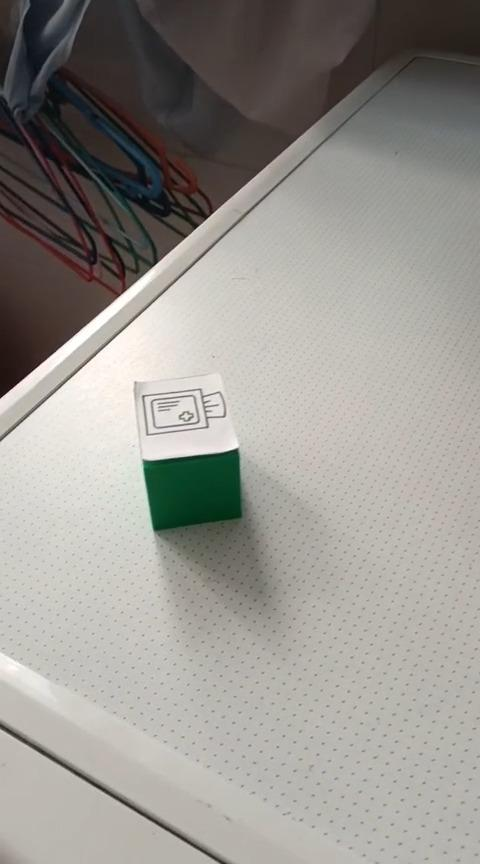Gauze: (131, 370, 243, 532)
